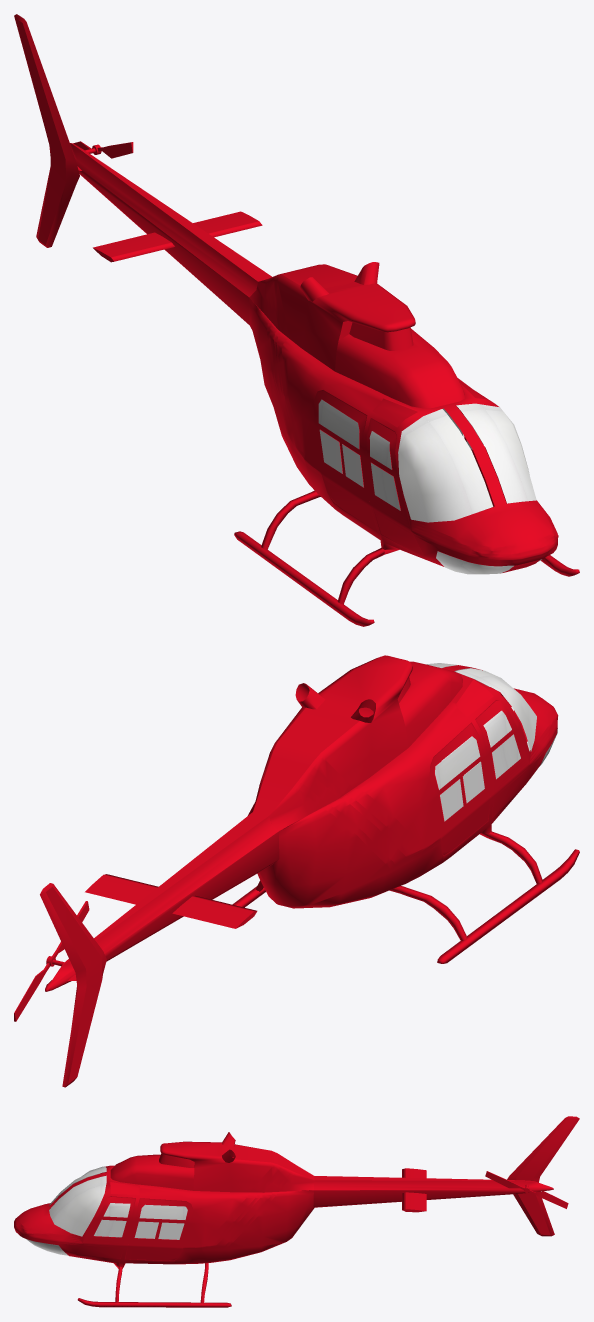
File: Helicoptero.obj
3 renders of one model, top to bottom at view 1: azimuth 30°, elevation 25°; view 2: azimuth 150°, elevation 25°; view 3: azimuth 270°, elevation 25°, orthographic. The views are drawn at different scales.
Visible parts, largest first — view 1: ID256, ID264, ID187, ID1422, ID195, ID1430, ID292, ID676, ID316, ID364, ID528, ID820 (+4 smaller); view 2: ID256, ID187, ID364, ID264, ID195, ID292, ID348, ID316, ID676, ID1422, ID229, ID372 (+18 smaller); view 3: ID256, ID187, ID264, ID364, ID195, ID1430, ID292, ID1190, ID926, ID1046, ID1326, ID1222 (+15 smaller).
Boxes of the visible parts, box(x1,y1,x2,y2) form: ID256: box(277, 264, 464, 408); ID264: box(281, 339, 552, 546); ID187: box(70, 143, 271, 324); ID1422: box(398, 409, 493, 522); ID195: box(14, 14, 79, 247); ID1430: box(456, 403, 536, 503); ID292: box(277, 407, 557, 572); ID676: box(314, 390, 368, 494); ID316: box(234, 531, 374, 626); ID364: box(249, 298, 331, 477); ID528: box(367, 418, 407, 518); ID820: box(318, 399, 359, 448); ID256: box(273, 655, 462, 787); ID187: box(45, 812, 279, 991); ID364: box(257, 808, 440, 907); ID264: box(354, 665, 552, 843); ID195: box(40, 883, 106, 1087); ID292: box(278, 701, 557, 908); ID348: box(248, 779, 321, 830); ID316: box(437, 849, 579, 963); ID676: box(430, 723, 488, 828); ID1422: box(455, 668, 536, 751); ID229: box(172, 896, 253, 928); ID372: box(328, 798, 440, 864); ID256: box(110, 1141, 274, 1192); ID187: box(313, 1176, 553, 1207); ID264: box(18, 1165, 248, 1243); ID364: box(182, 1190, 314, 1250); ID195: box(507, 1116, 579, 1236); ID1430: box(49, 1175, 106, 1236); ID292: box(17, 1217, 287, 1266); ID1190: box(130, 1198, 192, 1242); ID926: box(77, 1298, 231, 1307); ID1046: box(86, 1197, 135, 1240); ID1326: box(139, 1204, 187, 1219); ID1222: box(125, 1248, 181, 1260).
Bounding box in the file's own units: 8.83 × 11.07 × 36.09.
